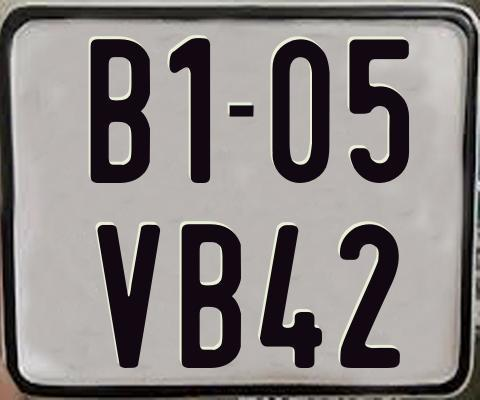0: (272, 36, 332, 185)
1: (169, 37, 216, 184)
2: (339, 221, 400, 367)
4: (260, 224, 328, 373)
5: (346, 37, 408, 187)
B: (179, 223, 244, 371), (91, 37, 152, 184)
V: (95, 225, 160, 374)
